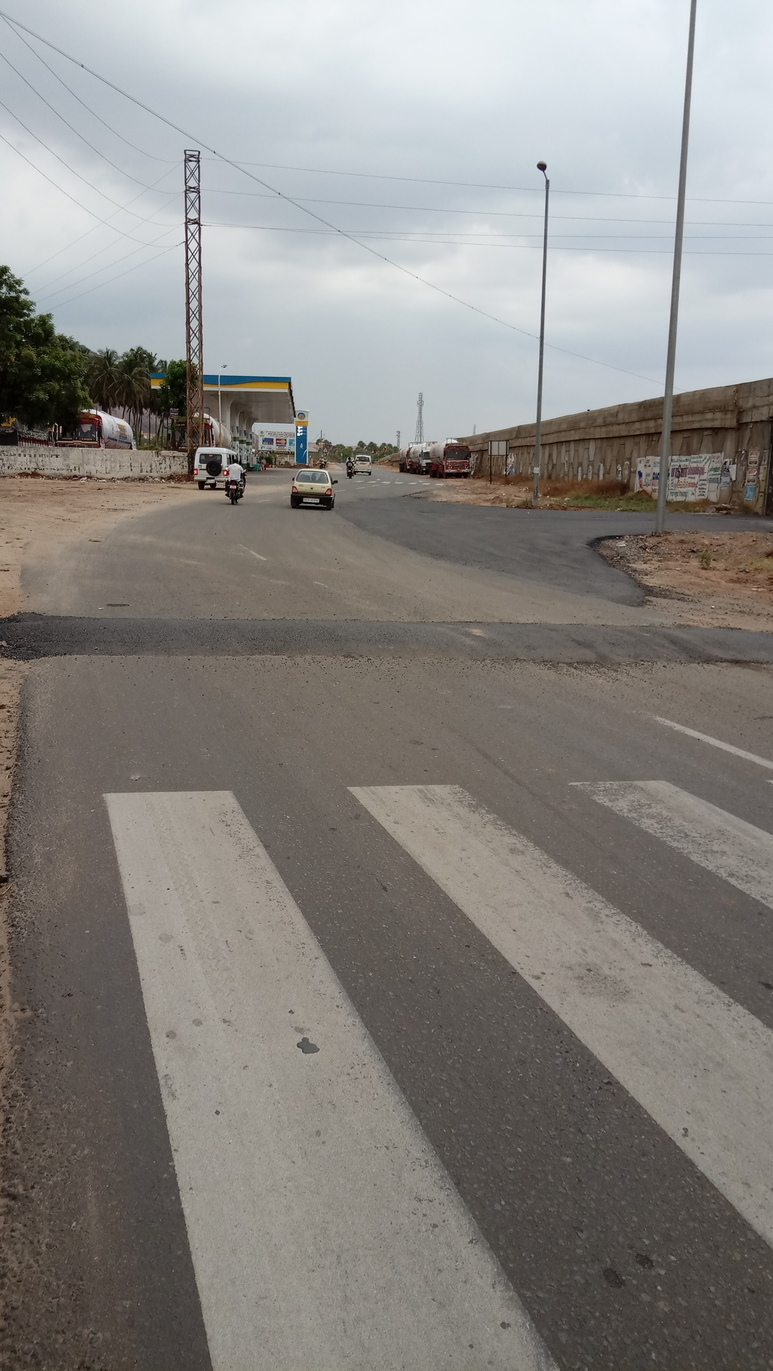bump: (4, 610, 773, 669)
